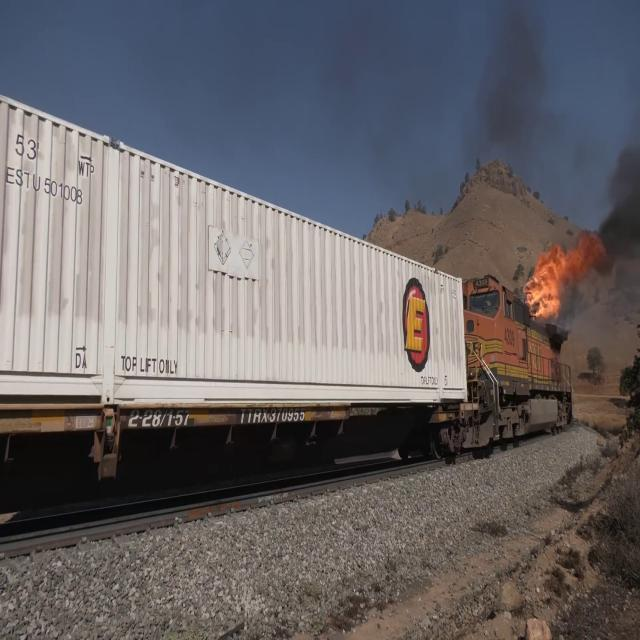Fire: (526, 231, 561, 324), (556, 221, 606, 276)
Smoke: (466, 8, 552, 140), (609, 138, 640, 275)
